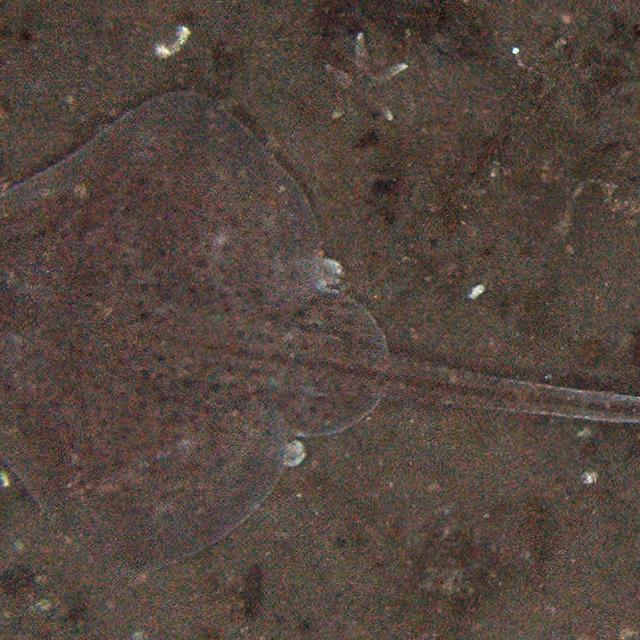skate: (0, 88, 640, 570)
